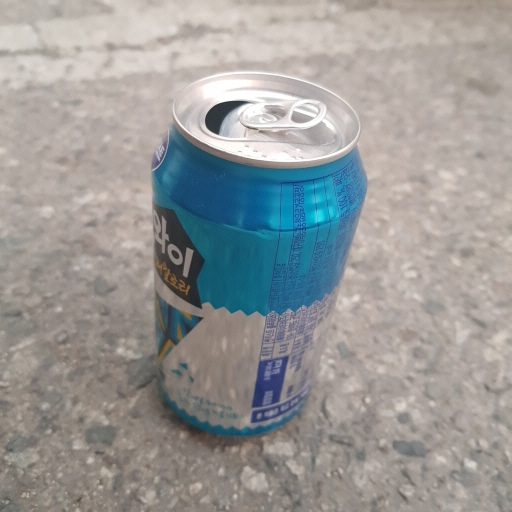Metal_0: (142, 70, 370, 444)
